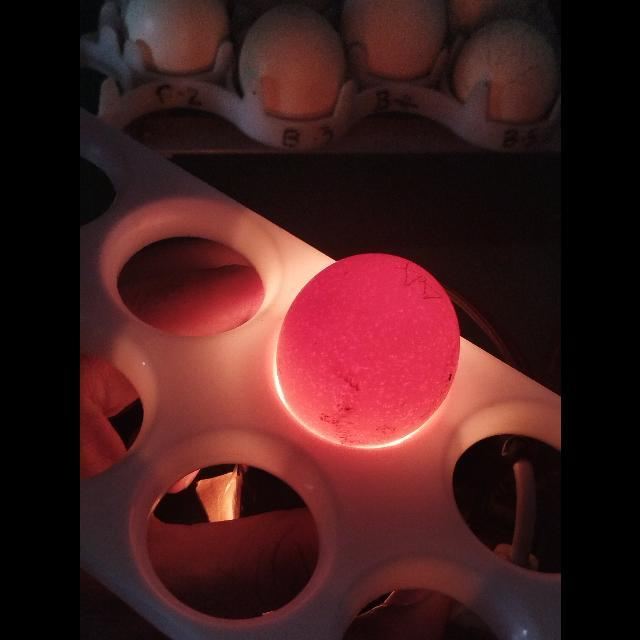Infertile: (274, 250, 462, 450)
